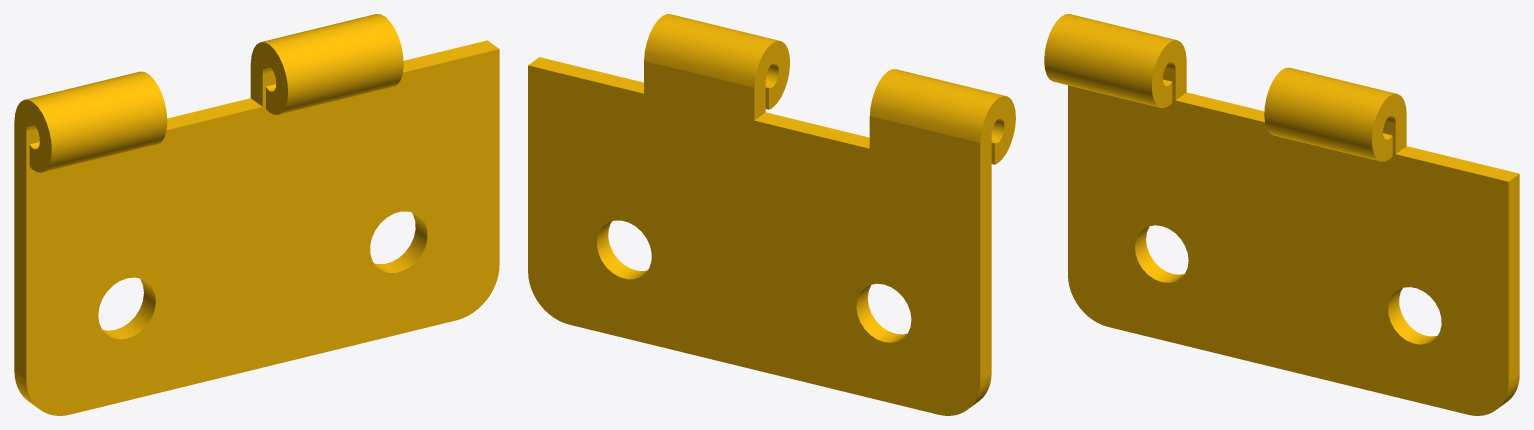
File: original-53.obj
3 views of the same model, side by side, from view 1: azimuth 30°, elevation 25°; view 2: azimuth 150°, elevation 25°; view 3: azimuth 330°, elevation 25° (orthographic). The views are drawn at different scales.
Parts seen in each view (by area): view 1: Group4/mesh54/mesh54-geometry#mesh54-geometry; view 2: Group4/mesh54/mesh54-geometry#mesh54-geometry; view 3: Group4/mesh54/mesh54-geometry#mesh54-geometry.
Part boxes in pixels (bbox=[...]): Group4/mesh54/mesh54-geometry#mesh54-geometry: bbox=[14, 14, 499, 415]; Group4/mesh54/mesh54-geometry#mesh54-geometry: bbox=[528, 14, 1015, 415]; Group4/mesh54/mesh54-geometry#mesh54-geometry: bbox=[1044, 14, 1519, 415].
Size of the model in its own units: 0.0626 by 0.0415 by 0.00857.
